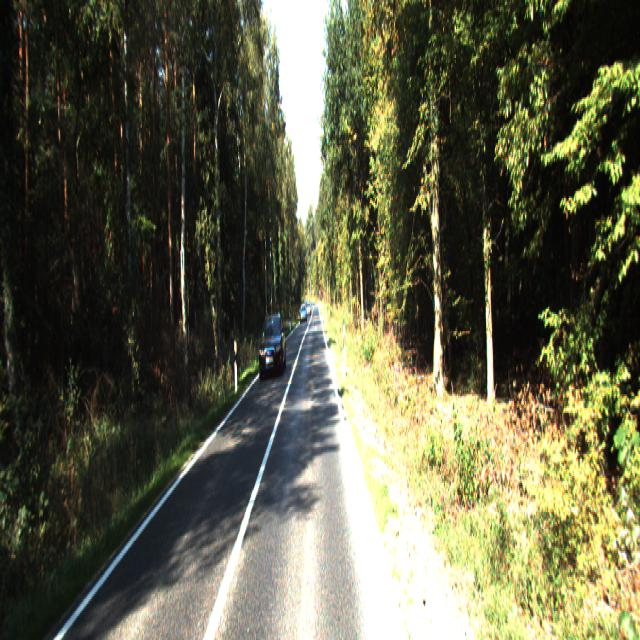Car: (259, 311, 286, 380)
